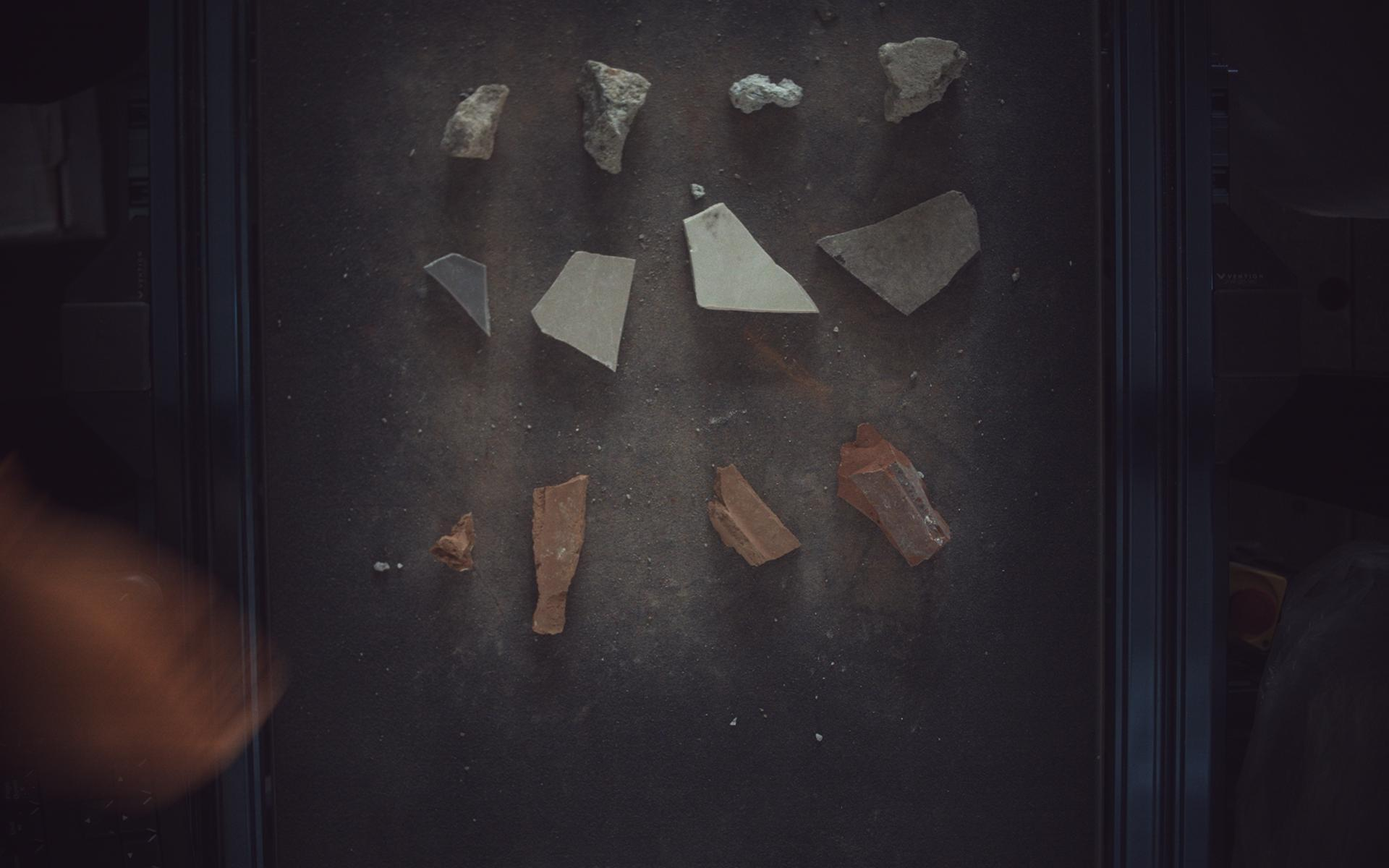brick: (839, 424, 952, 566), (708, 464, 802, 567), (532, 475, 589, 635), (430, 513, 475, 572)
concrete: (578, 59, 651, 173), (880, 36, 970, 122), (441, 83, 509, 158), (731, 73, 804, 113)
tile: (818, 190, 982, 315), (685, 203, 819, 312), (532, 250, 636, 370), (423, 252, 491, 334)
